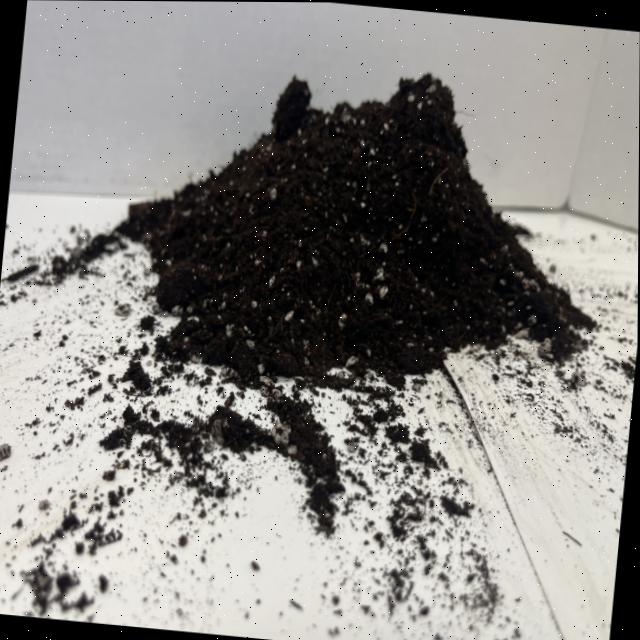soil: (52, 36, 621, 417)
